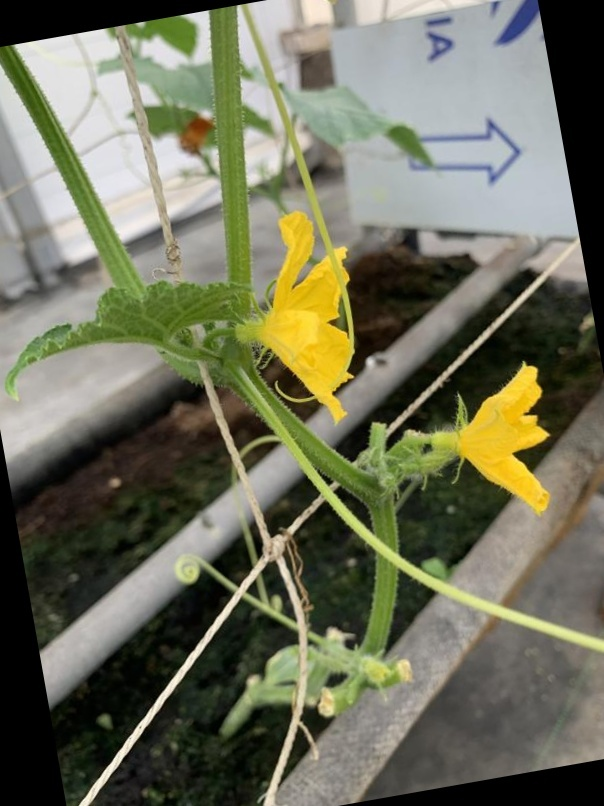flowering: (245, 214, 369, 416), (423, 360, 562, 520)
